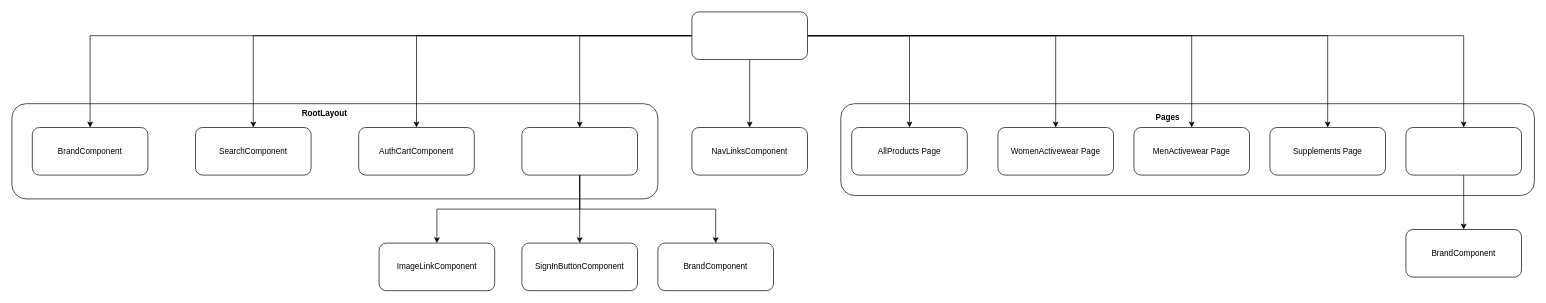
Image size: 1546x303. Some labels were removed from this diagram. The shapes that lost their labels are listed below. From the top down, each one's centre as x and y in pixels, then its label:
the point at 749,35: BrowserRouter
the point at 579,151: OffcanvasPanelComponent
the point at 1463,151: Login Page
